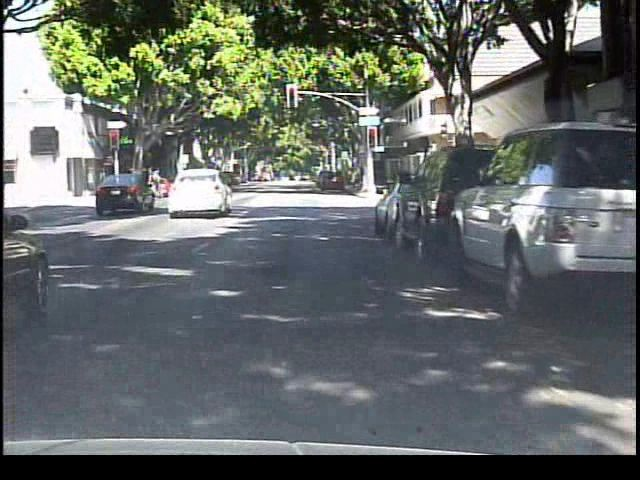person: (149, 164, 166, 196)
